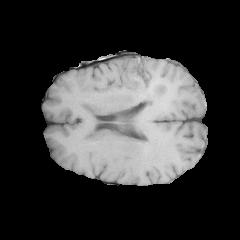glioma: (79, 57, 175, 141)
